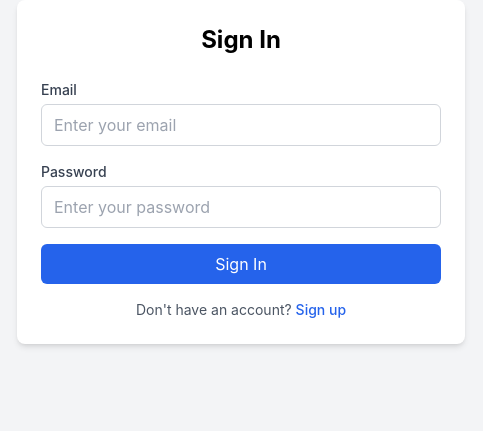
Test: LoginForm › displays error message when login fails
Step 1. Type "test@example.com" into the field labelled "Email" → coordinates (241, 125), box [41,104,441,146]
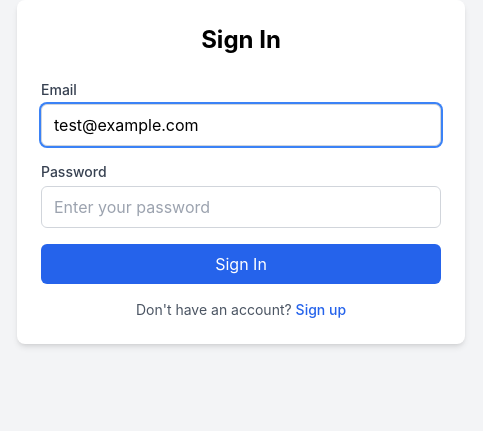
Step 2. Type "wrongpassword" into the password field labelled "Password" → coordinates (241, 207), box [41,186,441,228]
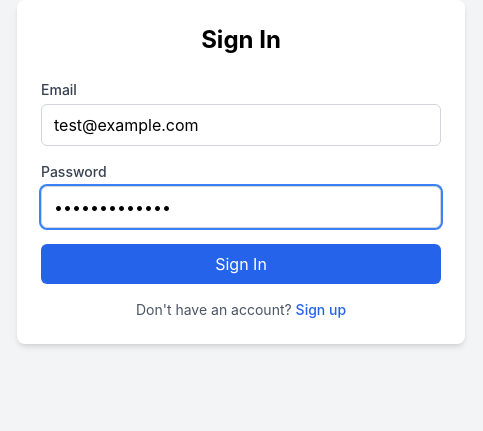
Step 3. Click the button "Sign In" → coordinates (241, 264), box [41,244,441,284]
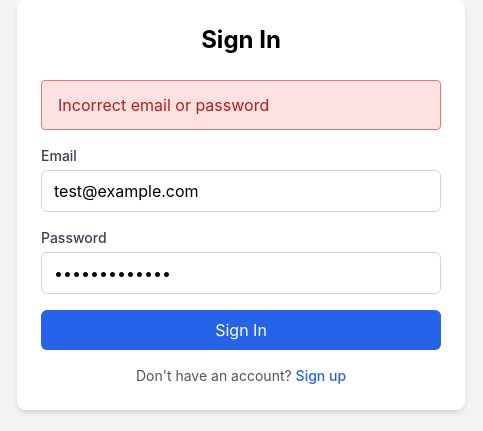
Check: the text "Incorrect email or password" is shown, box [41,80,441,130]
